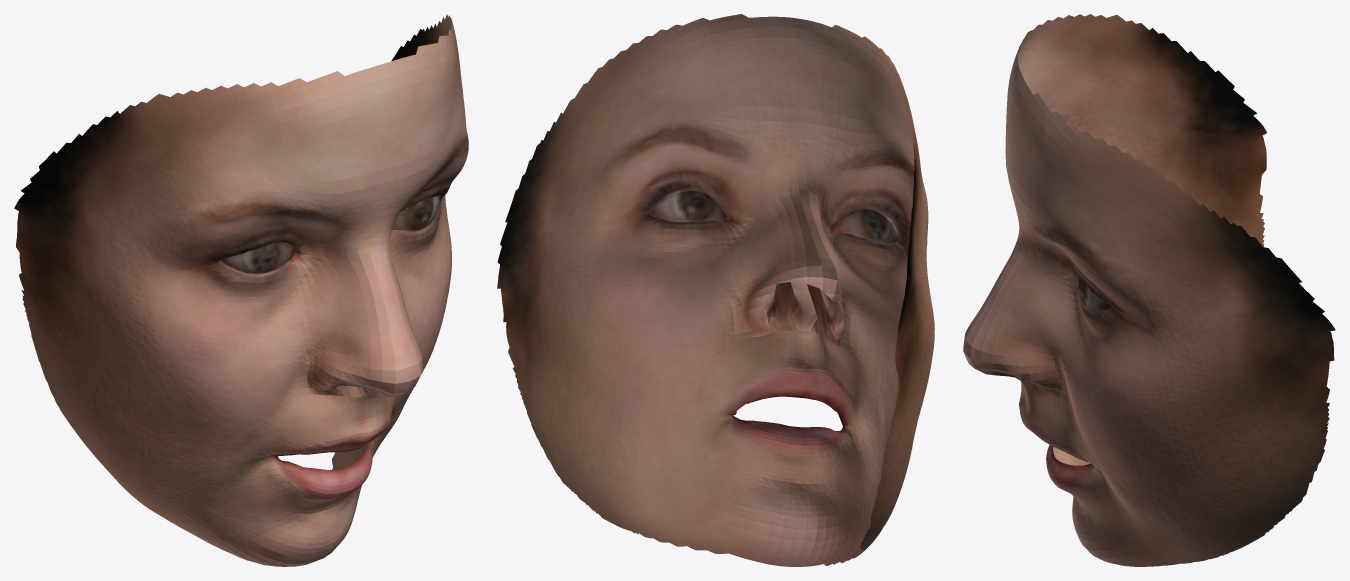
Rendered from frame_936_mesh.obj.
3 views of the same model, side by side, from view 1: azimuth 30°, elevation 25°; view 2: azimuth 150°, elevation 25°; view 3: azimuth 270°, elevation 25° (orthographic). The views are drawn at different scales.
Bounding box in the file's own units: 1.31 × 1.68 × 1.13.
